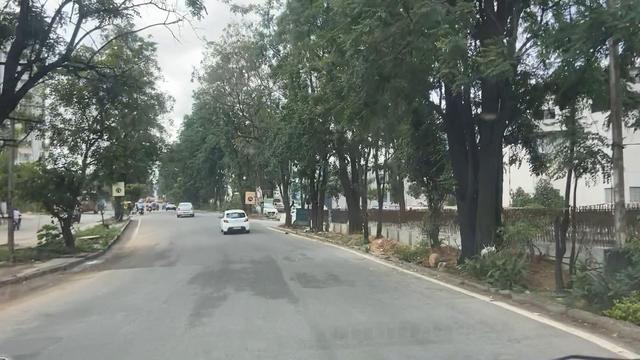LMV: (223, 211, 249, 232), (177, 201, 194, 217)
RoadDamages: (187, 290, 234, 325), (122, 243, 153, 279), (296, 270, 334, 298), (77, 249, 104, 278), (251, 282, 286, 303), (195, 260, 228, 282), (243, 255, 276, 274), (285, 252, 312, 266)
